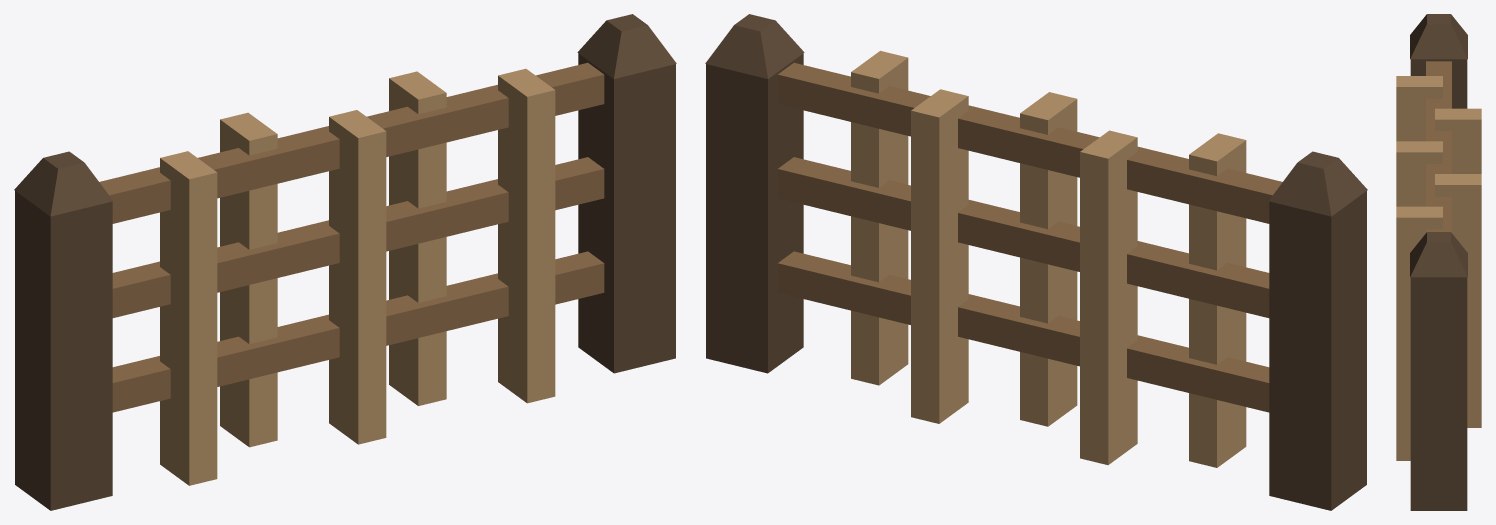
The model's file is fence-wattle.glb.
3 renders of one model, left to right at view 1: azimuth 30°, elevation 25°; view 2: azimuth 150°, elevation 25°; view 3: azimuth 270°, elevation 25°, orthographic. The views are drawn at different scales.
Visible parts, largest first — view 1: fence-wattle; view 2: fence-wattle; view 3: fence-wattle.
Part boxes in pixels (x1,y1,x2,y2): fence-wattle: (14,14,676,510); fence-wattle: (705,14,1367,510); fence-wattle: (1396,14,1481,510).
Size of the model in its own units: 2.22 by 1.12 by 0.33.
1 material, 1 textured.
